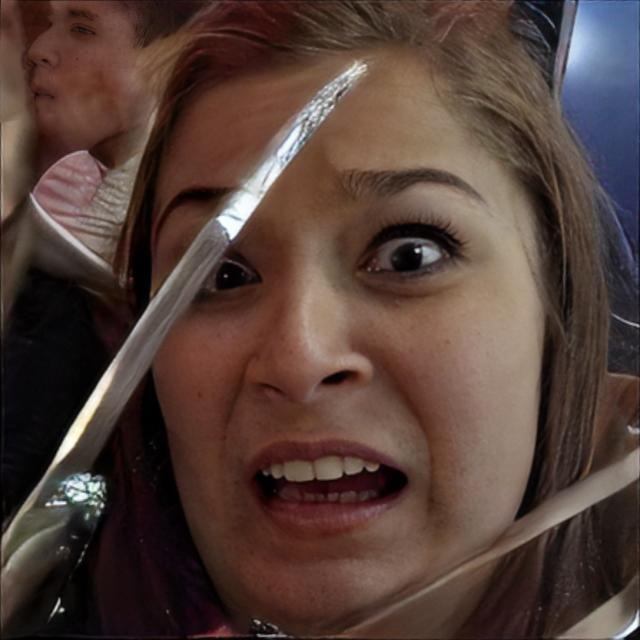fear: (147, 34, 549, 626)
